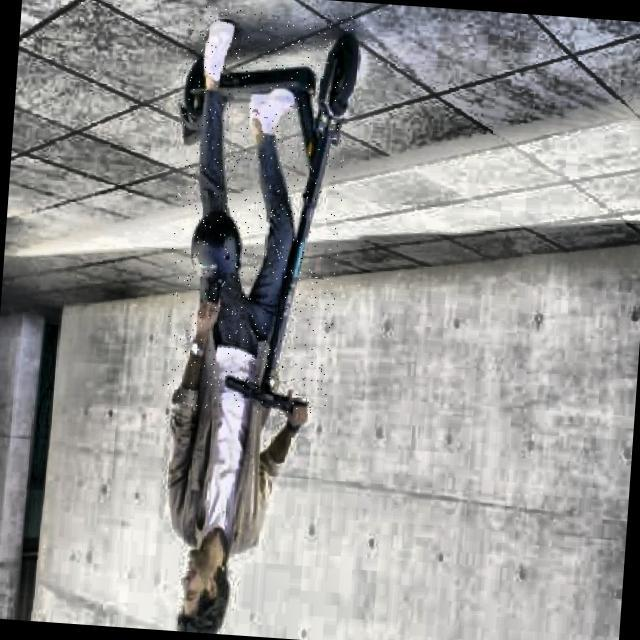bike: (165, 22, 363, 636)
traffic light: (164, 22, 362, 637)
